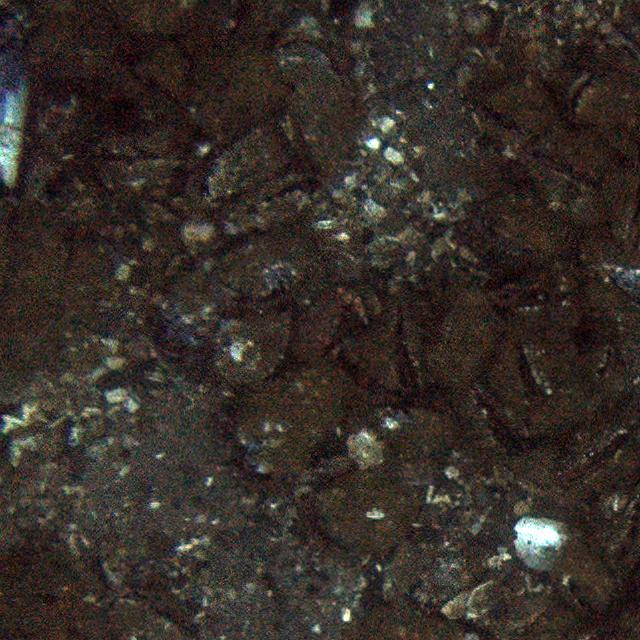crab: (292, 281, 370, 371)
